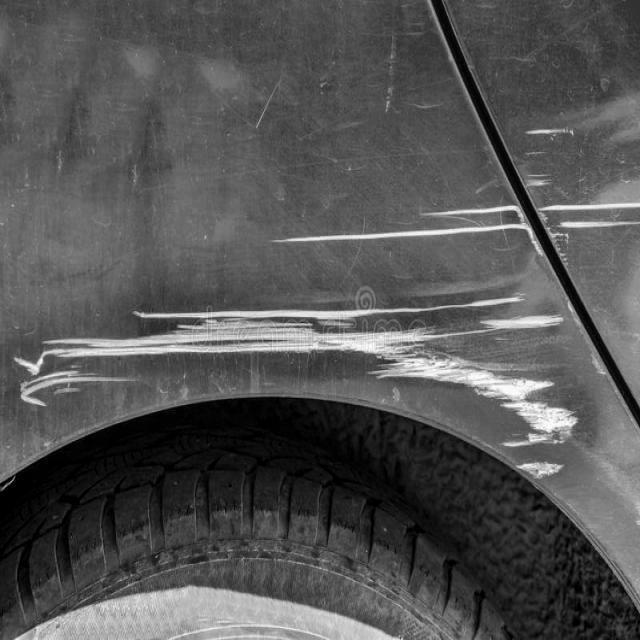quaterpanel-dent: (1, 218, 594, 477)
